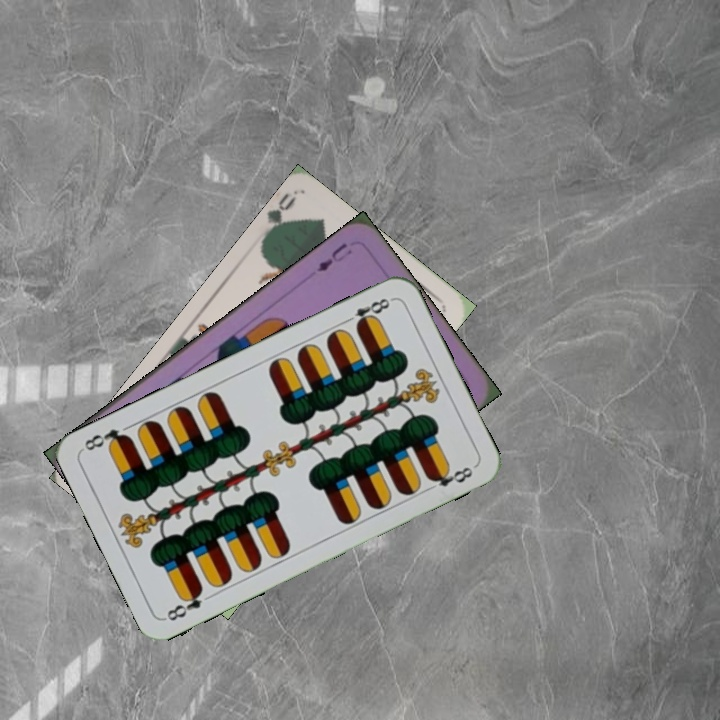E8: (340, 294, 395, 331), (162, 584, 206, 624)
EU: (312, 239, 355, 275)
GO: (258, 190, 298, 243)
